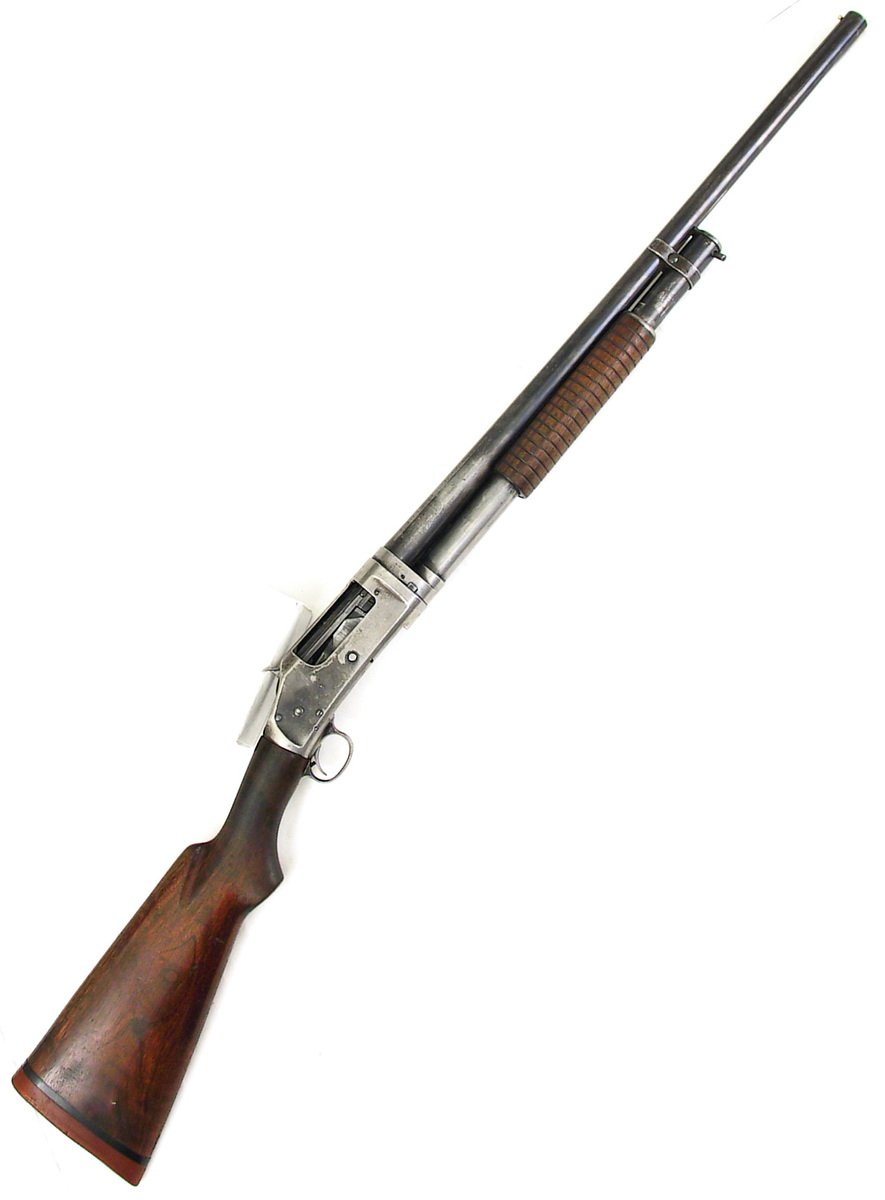gun: (17, 8, 868, 1183)
